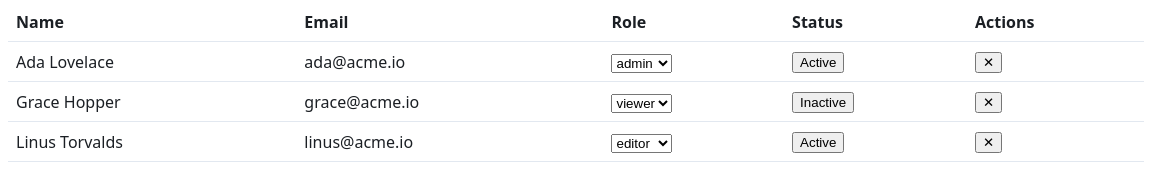
it: <UsersTable> › removes a user when its remove button is clicked
Click the button named "Remove Ada Lovelace" at (988, 62), box [975,52,1002,73]
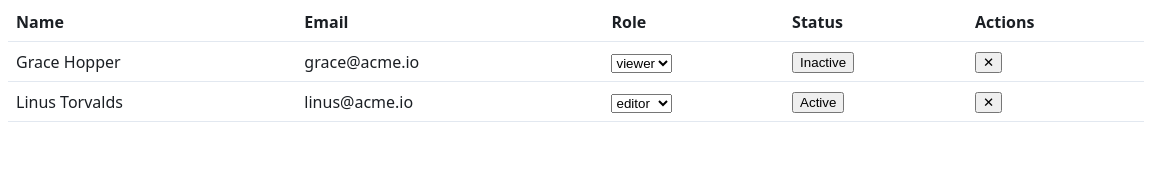
Expected: the number of rows with test id "user-row" is 2, [8,42,1144,82]; [8,82,1144,122]
Expected: the text "ada@acme.io" is gone
